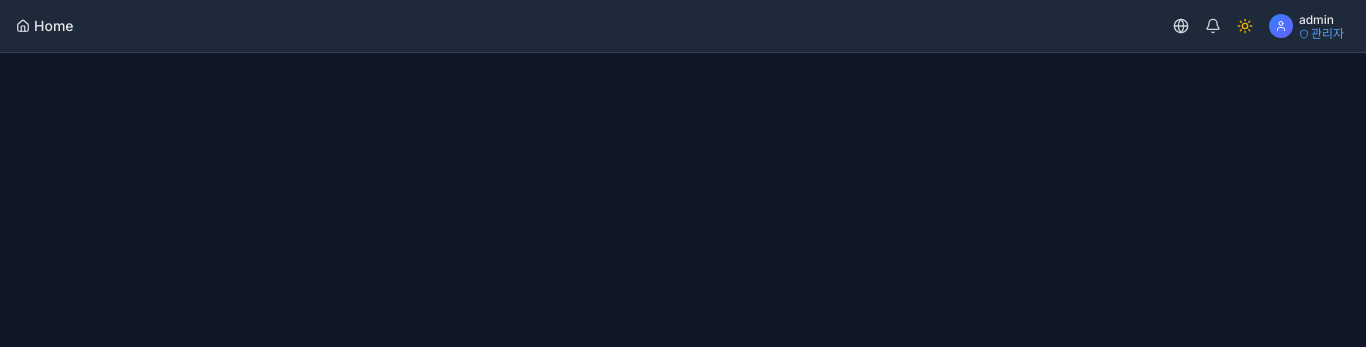
Test: Header › should show admin-only menu items for admin users
Click the button with aria-label "사용자 메뉴" at (1306, 26), box [1263,6,1350,46]
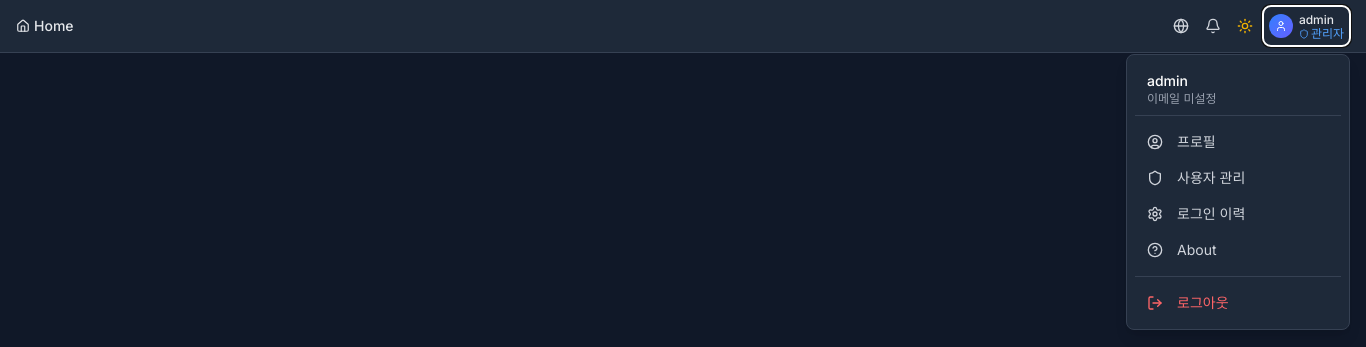
expect the button "사용자 관리" is shown: met, box [1135,160,1341,196]
expect the button "로그인 이력" is shown: met, box [1135,196,1341,232]
